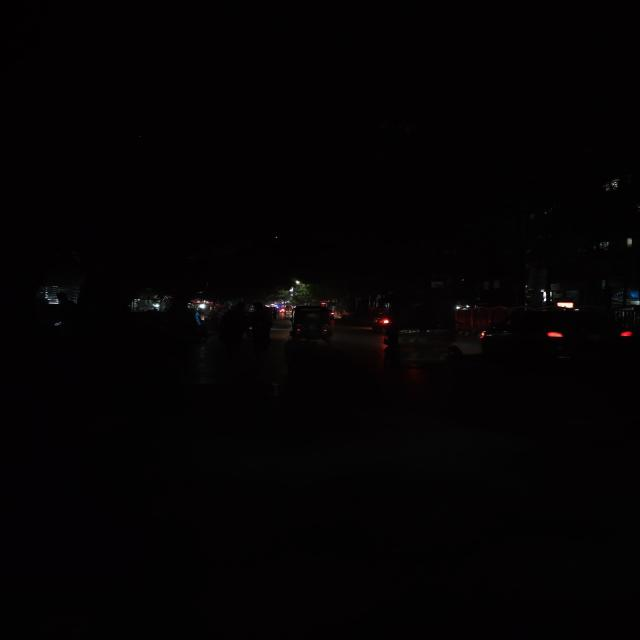car: (472, 308, 630, 372)
cng: (286, 306, 339, 348)
motorcycle: (367, 308, 393, 334)
pedestrian: (216, 302, 252, 358), (244, 302, 277, 349)
rickshaw: (369, 291, 462, 377)
